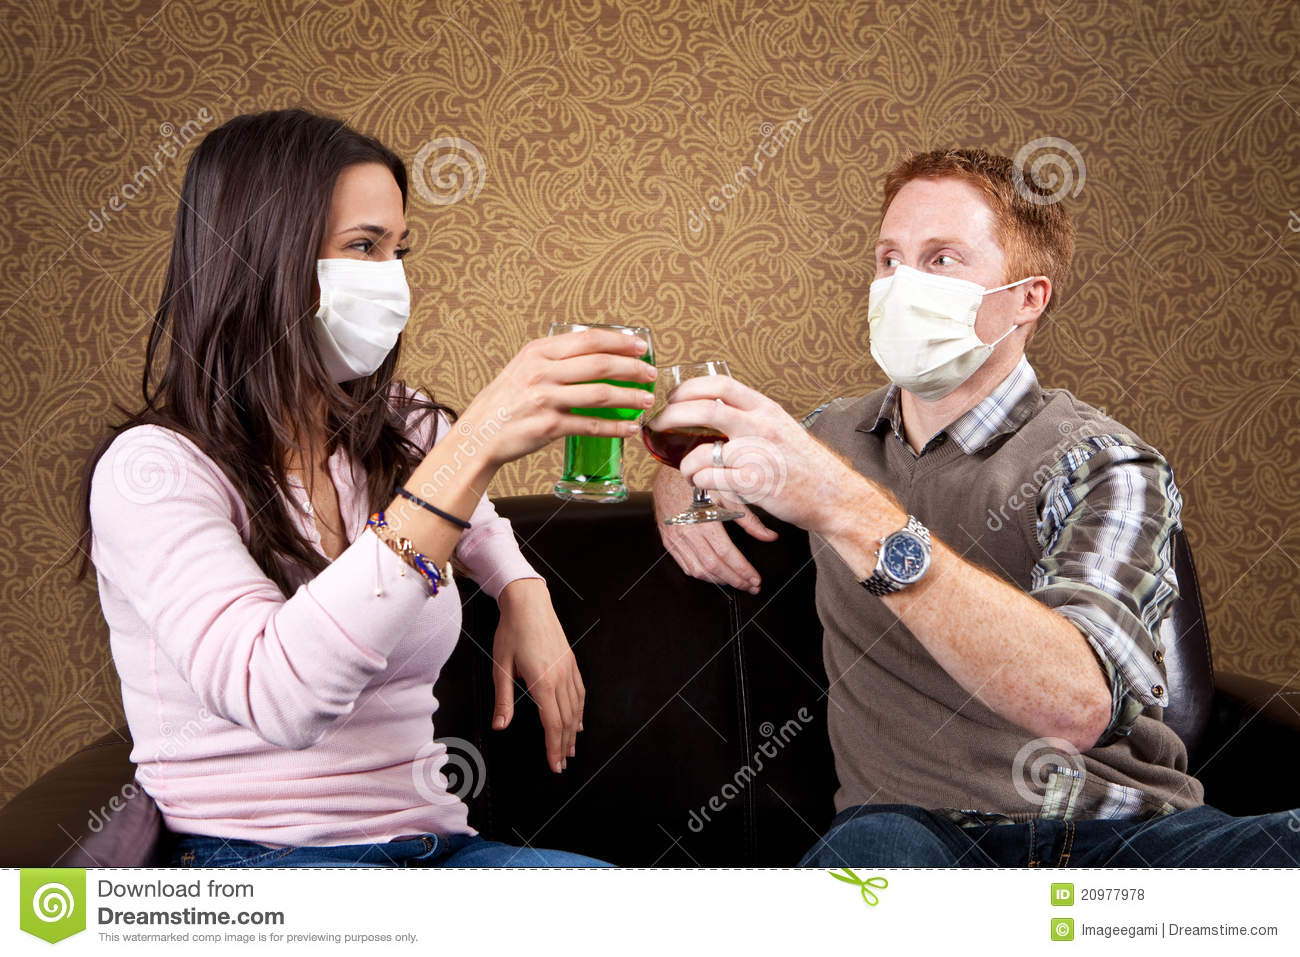mask: (866, 265, 997, 397), (307, 259, 413, 386)
